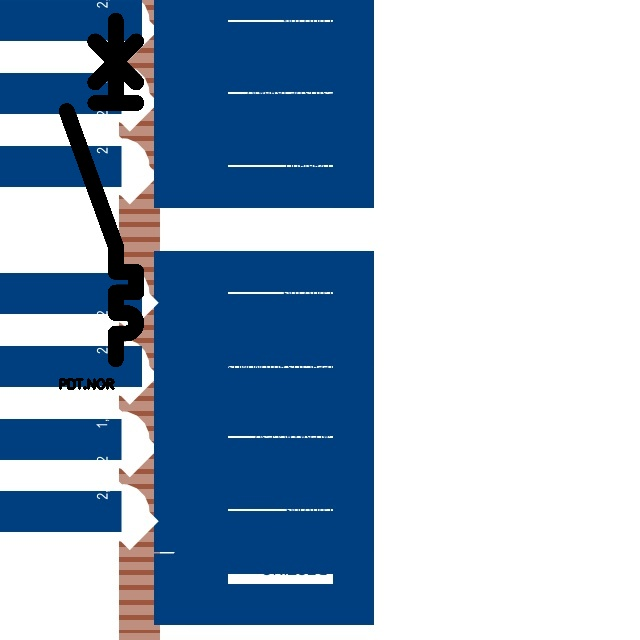interruptor_termomagnetico: (58, 12, 145, 368)
